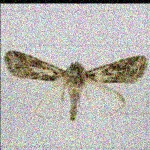Spodoptera litura: (4, 50, 148, 121)
